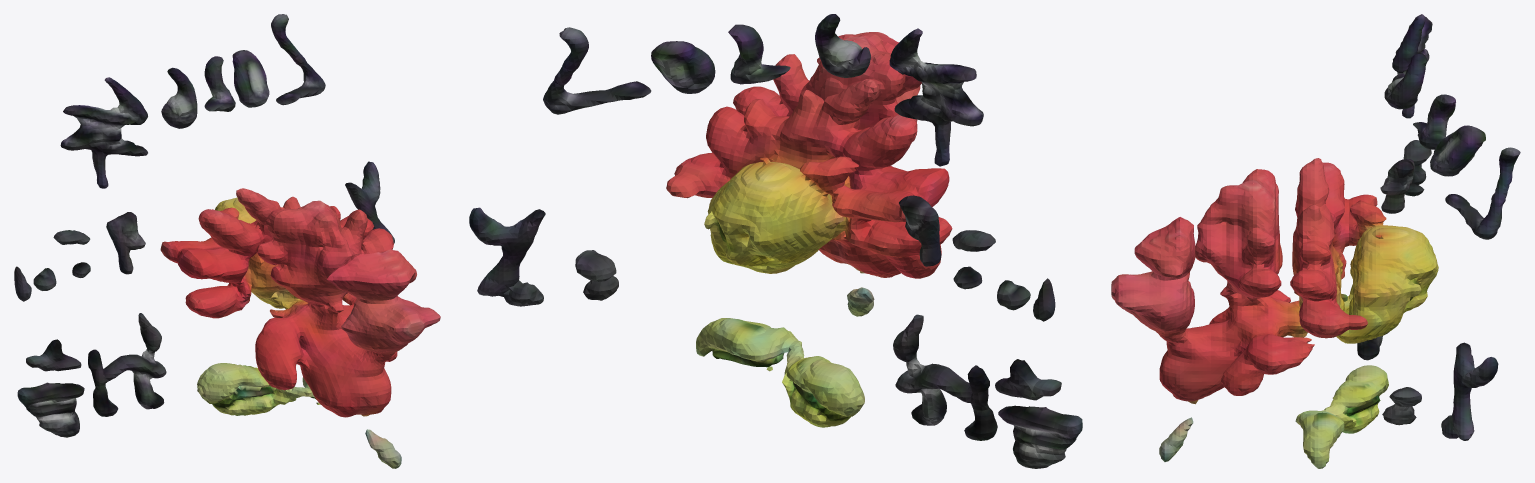
3 renders of one model, left to right at view 1: azimuth 30°, elevation 25°; view 2: azimuth 150°, elevation 25°; view 3: azimuth 270°, elevation 25°, orthographic. The views are drawn at different scales.
Parts seen in each view (by area): view 1: world; view 2: world; view 3: world.
Part boxes in pixels (x1=…): world: x1=14, y1=14, x2=440, y2=468; world: x1=469, y1=14, x2=1082, y2=468; world: x1=1111, y1=14, x2=1520, y2=468.
Size of the model in its own units: 0.8908 by 0.7084 by 0.7276.
